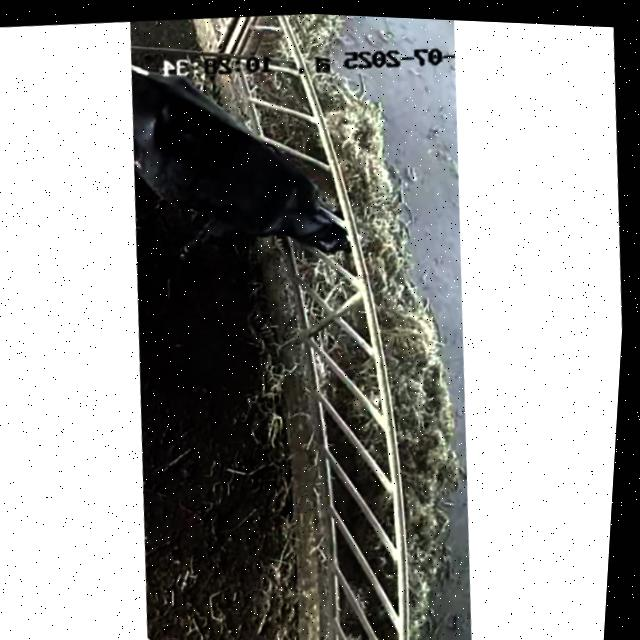eat: (216, 140, 419, 274)
